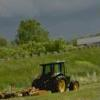Tractor: (23, 52, 97, 98)
